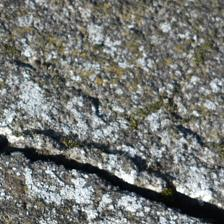Crack: (2, 67, 215, 156)
